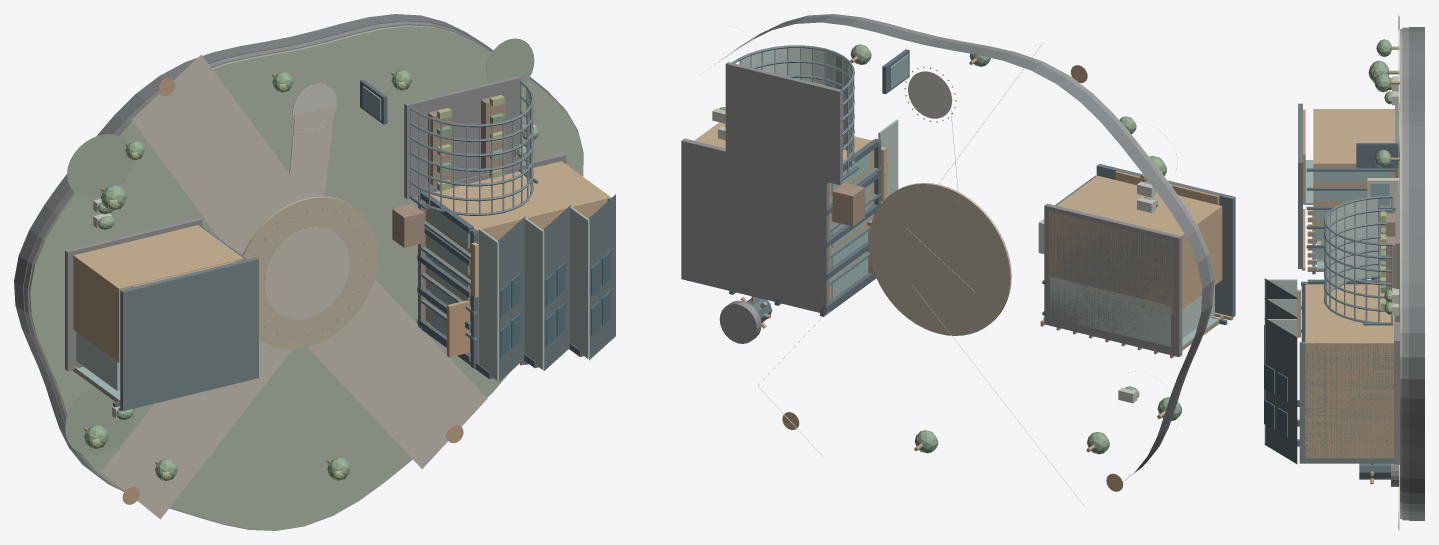
File: C_產業青年_V3_可建模設計參考.glb
3 views of the same model, side by side, from view 1: azimuth 30°, elevation 25°; view 2: azimuth 150°, elevation 25°; view 3: azimuth 270°, elevation 25° (orthographic). The views are drawn at different scales.
Visible parts, largest first — view 1: 0002_03 island grass turf, 0116_y long roof plate, 0008_04 accessible connector S16, 0007_04 accessible connector S15, 0006_04 accessible connector S14, 0102_y south wing shell, 0010_05 central plaza base, 0040_w wall shell, 0000_01 island deep rock, 0011_06 central plaza center, 0140_g low plinth, 0001_02 island rock reveal (+18 smaller); view 2: 0039_w base slab, 0010_05 central plaza base, 0101_y plinth, 0102_y south wing shell, 0140_g low plinth, 0000_01 island deep rock, 0103_y front ground shell, 0001_02 island rock reveal, 0116_y long roof plate, 0368_npc reserved safe unobstructed inlay, 0395_industry exhibit foundation, 0040_w wall shell (+3 smaller); view 3: 0040_w wall shell, 0000_01 island deep rock, 0041_w east side steel structural, 0102_y south wing shell, 0001_02 island rock reveal, 0065_w sawtooth roof panel 2, 0002_03 island grass turf, 0393_guided tour side sign, 0039_w base slab, 0116_y long roof plate, 0112_y eastern tall glazing 4, 0110_y eastern tall glazing 3 (+28 smaller).
Boxes of the visible parts, <box> form: 0002_03 island grass turf: <box>29,25,583,530</box>; 0116_y long roof plate: <box>120,257,258,411</box>; 0008_04 accessible connector S16: <box>131,54,307,255</box>; 0007_04 accessible connector S15: <box>308,278,487,468</box>; 0006_04 accessible connector S14: <box>101,339,292,519</box>; 0102_y south wing shell: <box>73,225,243,362</box>; 0010_05 central plaza base: <box>242,196,377,349</box>; 0040_w wall shell: <box>425,161,610,357</box>; 0000_01 island deep rock: <box>14,14,563,486</box>; 0011_06 central plaza center: <box>264,227,349,319</box>; 0140_g low plinth: <box>404,76,521,198</box>; 0001_02 island rock reveal: <box>23,21,583,530</box>; 0039_w base slab: <box>681,138,829,314</box>; 0010_05 central plaza base: <box>868,183,1011,335</box>; 0101_y plinth: <box>1044,203,1182,357</box>; 0102_y south wing shell: <box>1049,175,1222,315</box>; 0140_g low plinth: <box>725,62,842,185</box>; 0000_01 island deep rock: <box>719,16,1211,481</box>; 0103_y front ground shell: <box>1050,276,1214,346</box>; 0001_02 island rock reveal: <box>746,14,1214,475</box>; 0116_y long roof plate: <box>1096,164,1235,317</box>; 0368_npc reserved safe unobstructed inlay: <box>908,71,952,118</box>; 0395_industry exhibit foundation: <box>719,300,761,343</box>; 0040_w wall shell: <box>694,122,874,299</box>; 0040_w wall shell: <box>1305,284,1393,458</box>; 0000_01 island deep rock: <box>1409,27,1424,520</box>; 0041_w east side steel structural: <box>1299,342,1393,463</box>; 0102_y south wing shell: <box>1313,109,1394,229</box>; 0001_02 island rock reveal: <box>1402,27,1408,520</box>; 0065_w sawtooth roof panel 2: <box>1264,318,1297,463</box>; 0002_03 island grass turf: <box>1400,29,1402,518</box>; 0393_guided tour side sign: <box>1356,143,1398,168</box>; 0039_w base slab: <box>1394,315,1399,464</box>; 0116_y long roof plate: <box>1298,103,1302,268</box>; 0112_y eastern tall glazing 4: <box>1315,171,1390,182</box>; 0110_y eastern tall glazing 3: <box>1315,190,1367,201</box>.
Size of the model in its own units: 29.96 by 25.64 by 8.37.
